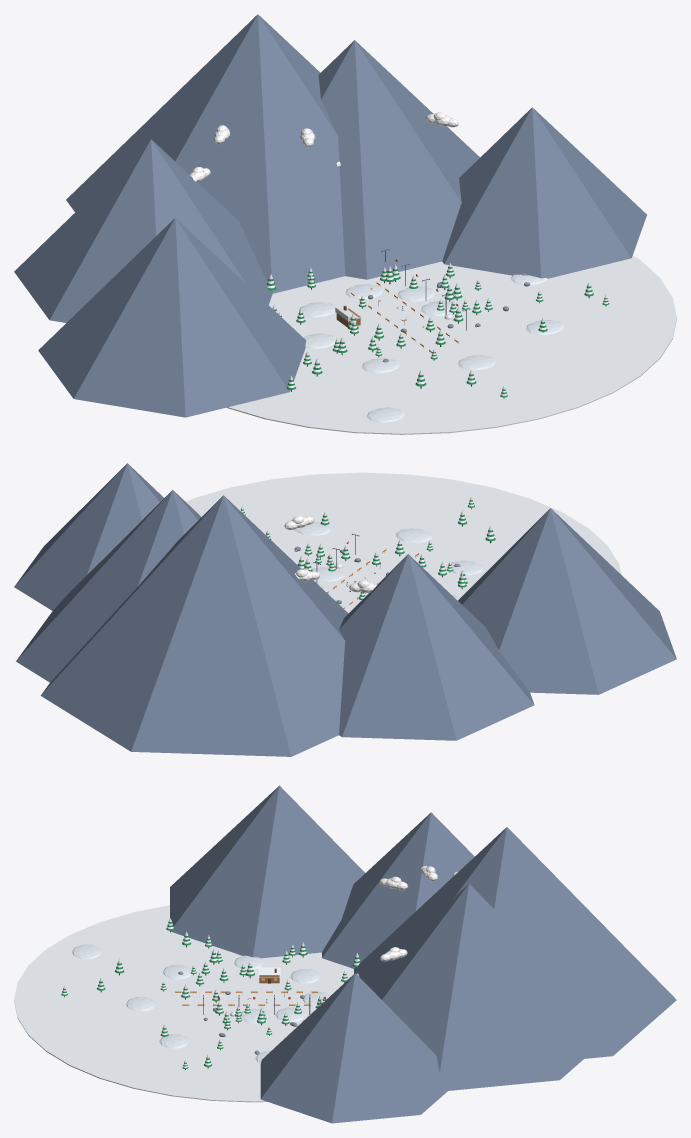
File: Ski_World.fbx
3 renders of one model, top to bottom at view 1: azimuth 30°, elevation 25°; view 2: azimuth 150°, elevation 25°; view 3: azimuth 270°, elevation 25°, orthographic. The views are drawn at different scales.
Parts seen in each view (by area): view 1: Snow.001, Mountain.005, Mountain.004, Mountain.002, Mountain.003, Mountain.001; view 2: Mountain.005, Snow.001, Mountain.001, Mountain.004, Mountain.002, Mountain.003; view 3: Snow.001, Mountain.002, Mountain.005, Mountain.004, Mountain.003, Mountain.001.
Part boxes in pixels (x1=…): Snow.001: x1=226, y1=255, x2=676, y2=434; Mountain.005: x1=66, y1=14, x2=345, y2=293; Mountain.004: x1=38, y1=218, x2=306, y2=417; Mountain.002: x1=318, y1=40, x2=479, y2=279; Mountain.003: x1=442, y1=107, x2=646, y2=278; Mountain.001: x1=14, y1=139, x2=272, y2=322; Mountain.005: x1=40, y1=495, x2=348, y2=756; Snow.001: x1=186, y1=472, x2=621, y2=613; Mountain.001: x1=339, y1=554, x2=534, y2=740; Mountain.004: x1=458, y1=508, x2=676, y2=694; Mountain.002: x1=16, y1=490, x2=201, y2=682; Mountain.003: x1=14, y1=463, x2=163, y2=610; Snow.001: x1=14, y1=905, x2=353, y2=1102; Mountain.002: x1=364, y1=884, x2=583, y2=1090; Mountain.005: x1=354, y1=827, x2=676, y2=1058; Mountain.004: x1=170, y1=785, x2=365, y2=958; Mountain.003: x1=260, y1=973, x2=447, y2=1123; Mountain.001: x1=322, y1=812, x2=474, y2=968.
Size of the model in its own units: 247 by 76.9 by 262.
